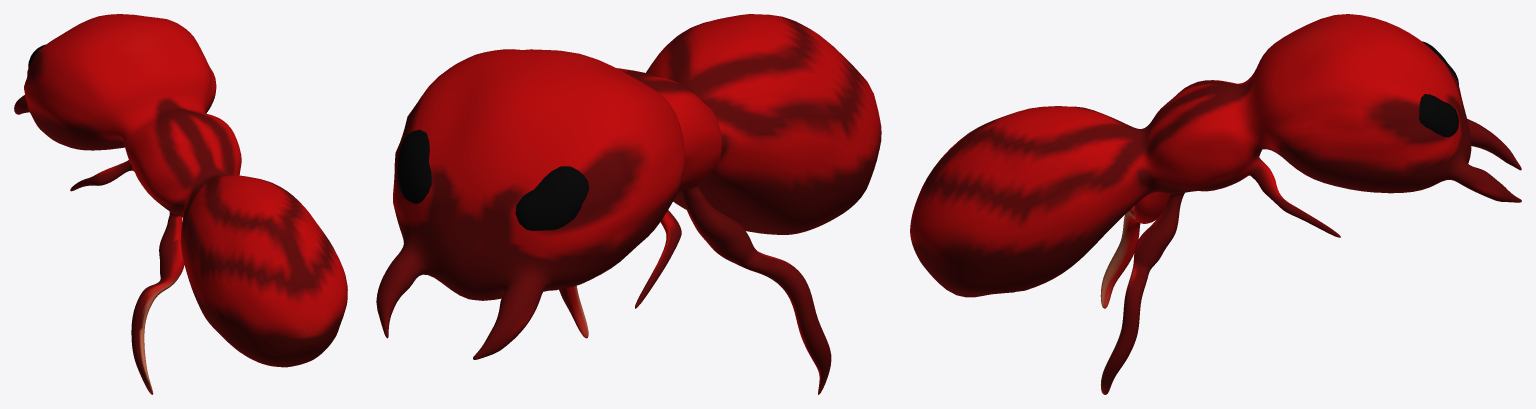
The model's file is ant.fbx.
The picture shows the model from 3 angles, left to right: view 1: azimuth 30°, elevation 25°; view 2: azimuth 150°, elevation 25°; view 3: azimuth 270°, elevation 25°; orthographic projection. The views are drawn at different scales.
Visible parts, largest first — view 1: Cube.001; view 2: Cube.001, Sphere; view 3: Cube.001, Sphere.
Boxes of the visible parts, x1,y1,x2,y2 form: Cube.001: (14,14,347,394); Cube.001: (376,14,881,394); Sphere: (397,130,589,230); Cube.001: (910,14,1521,394); Sphere: (1419,41,1458,137).
Size of the model in its own units: 81.73 by 123 by 213.
